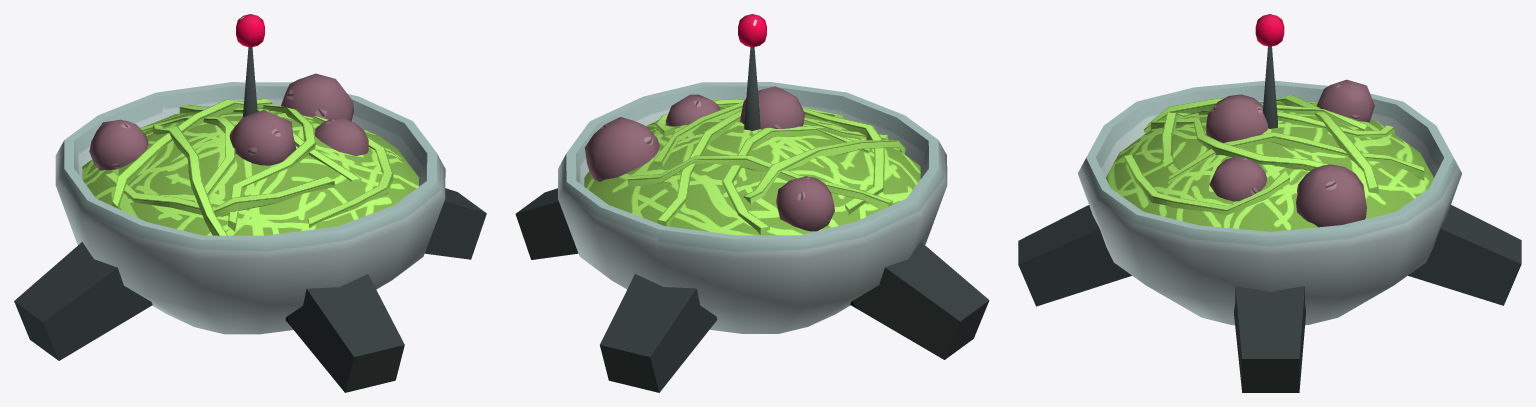
Rendered from SpaghettiMine.obj.
3 views of the same model, side by side, from view 1: azimuth 30°, elevation 25°; view 2: azimuth 150°, elevation 25°; view 3: azimuth 270°, elevation 25° (orthographic).
Visible parts, largest first — view 1: pCube16; view 2: pCube16; view 3: pCube16.
Part boxes in pixels (bbox=[...]): pCube16: bbox=[14, 14, 486, 392]; pCube16: bbox=[515, 14, 989, 392]; pCube16: bbox=[1018, 14, 1521, 392].
Bounding box in the file's own units: 1.32 × 0.8089 × 1.32.
